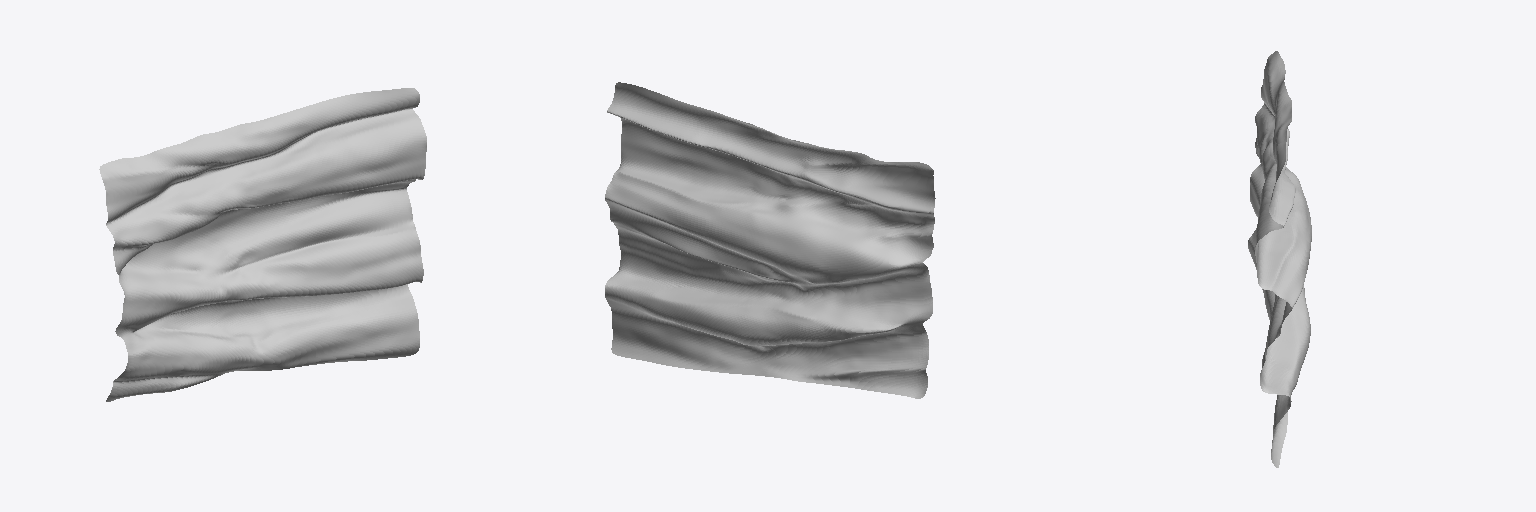
Rendered from SM_Curtain_02_HighPoly_04.OBJ.
3 views of the same model, side by side, from view 1: azimuth 30°, elevation 25°; view 2: azimuth 150°, elevation 25°; view 3: azimuth 270°, elevation 25° (orthographic).
Visible parts, largest first — view 1: Group20824; view 2: Group20824; view 3: Group20824.
Part boxes in pixels (left/top/right/bottom): Group20824: left=99, top=88, right=426, bottom=401; Group20824: left=605, top=82, right=935, bottom=398; Group20824: left=1248, top=51, right=1311, bottom=467.
Size of the model in its own units: 2.75 by 2.25 by 0.4779.